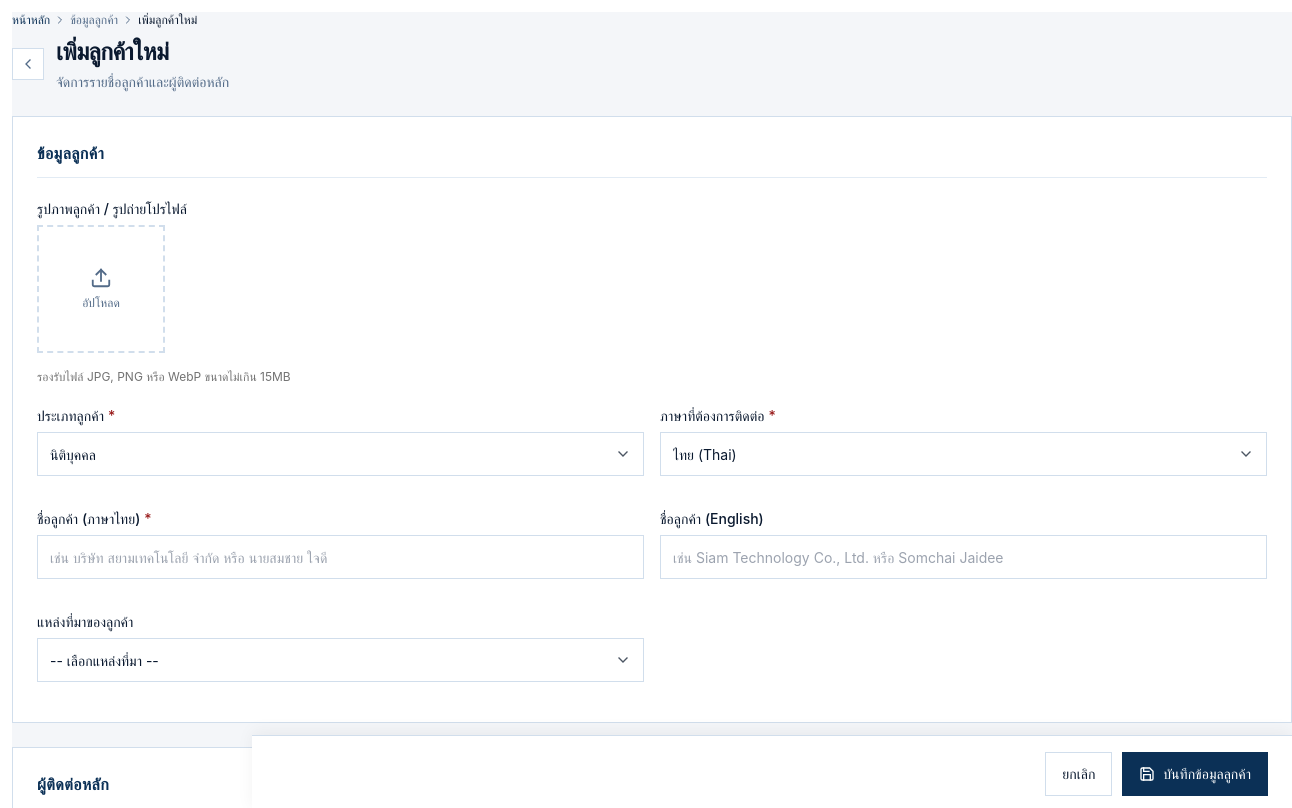
Test case: CustomerEditor create intent › displays live duplicate warning banner when duplicates are detected
Type "บริษัท ตัวอย่าง จำกัด" into the field with id "displayNameTh" at {"x": 340, "y": 557}, box [37,535,644,579]
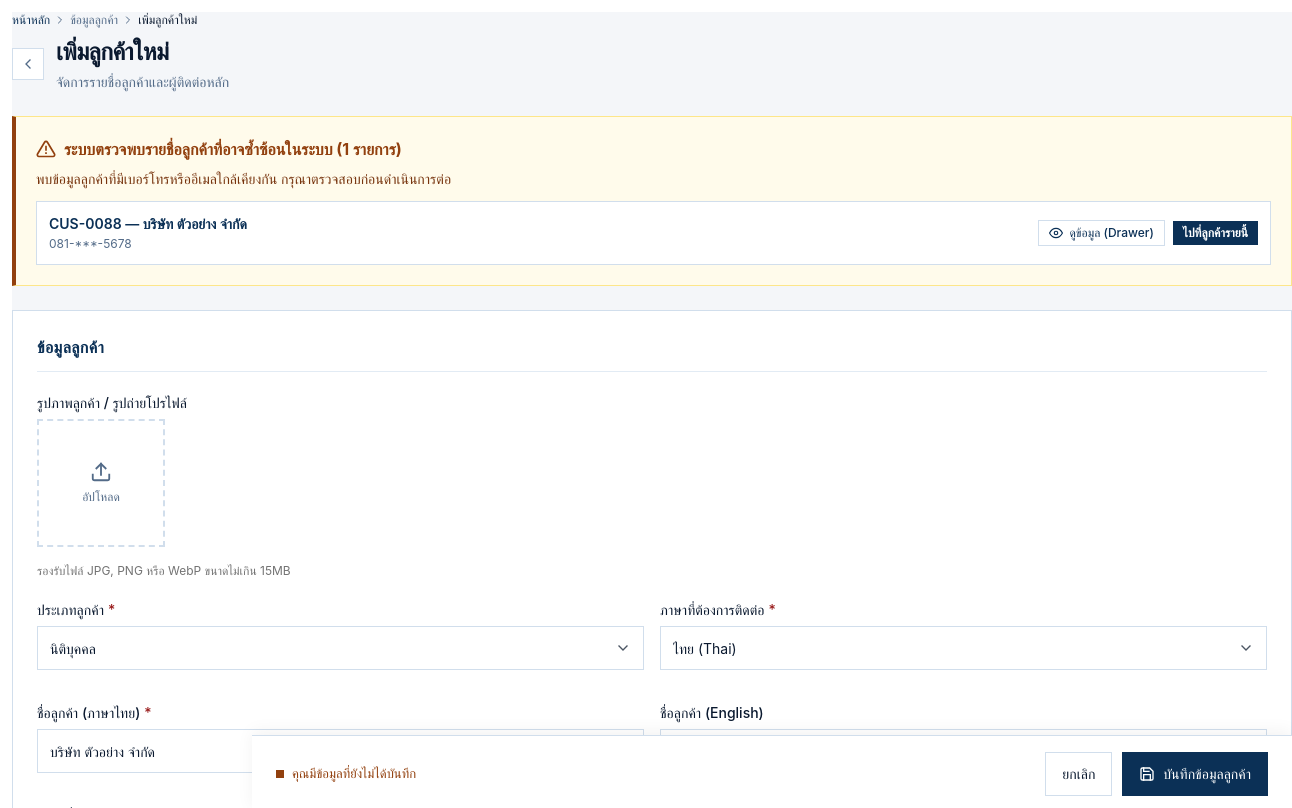
Now the heading "ระบบตรวจพบรายชื่อลูกค้าที่อาจซ้ำซ้อนในระบบ (1 รายการ)" is shown, box [64,137,402,161]
Now the text "CUS-0088 — บริษัท ตัวอย่าง จำกัด" is shown, box [49,214,247,234]
